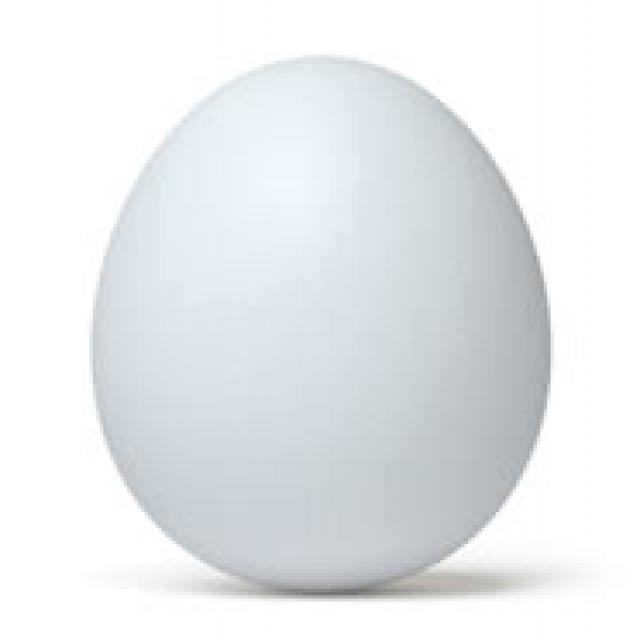egg: (96, 58, 551, 592)
